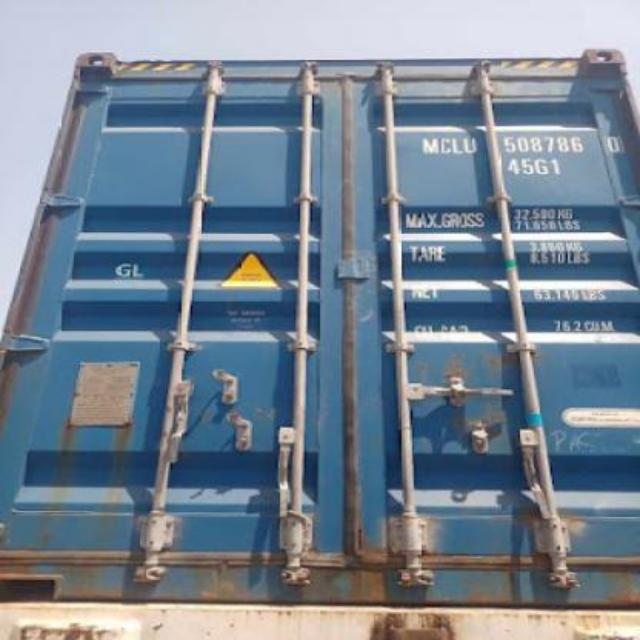0: (602, 135, 624, 155), (514, 135, 532, 153)
5: (500, 135, 518, 155)
6: (568, 133, 584, 153)
7: (540, 135, 556, 155)
8: (554, 134, 572, 156), (528, 134, 544, 154)
C: (438, 134, 452, 156)
L: (451, 134, 464, 158)
M: (420, 136, 440, 156)
U: (462, 134, 480, 158)
